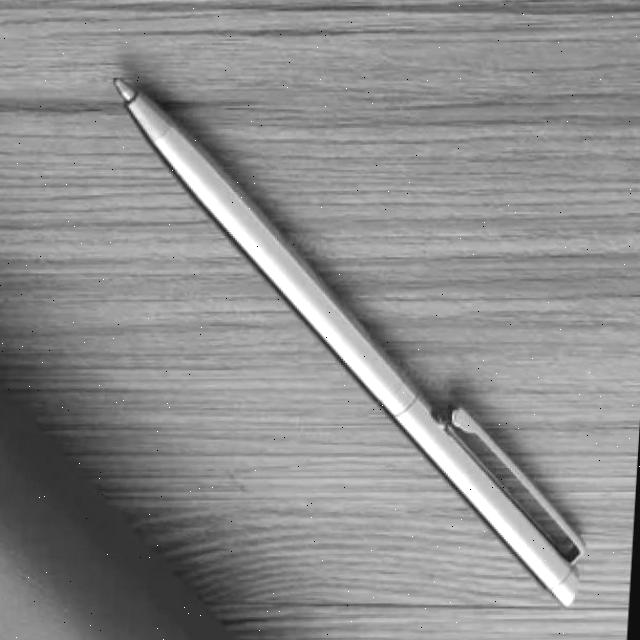pencil: (105, 79, 588, 624)
